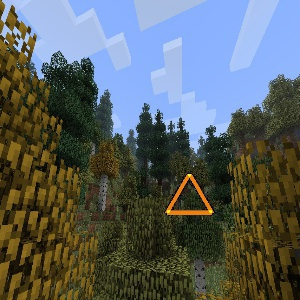triangle: (163, 168, 217, 217)
